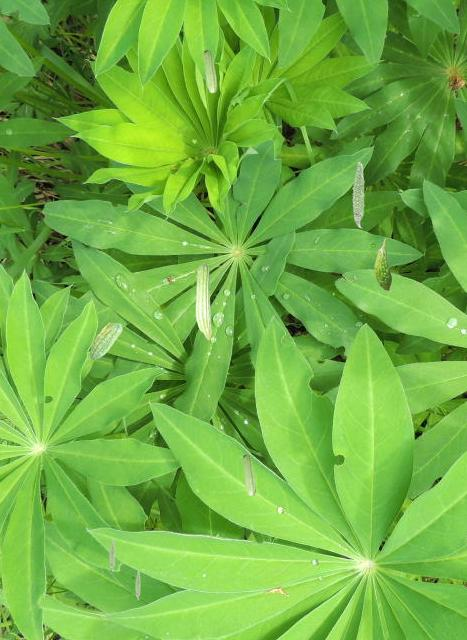ampalaya: (195, 260, 211, 340), (89, 322, 122, 360), (373, 238, 392, 292), (351, 160, 365, 228), (202, 49, 217, 93), (241, 454, 256, 496), (109, 539, 115, 572), (134, 570, 140, 600)
